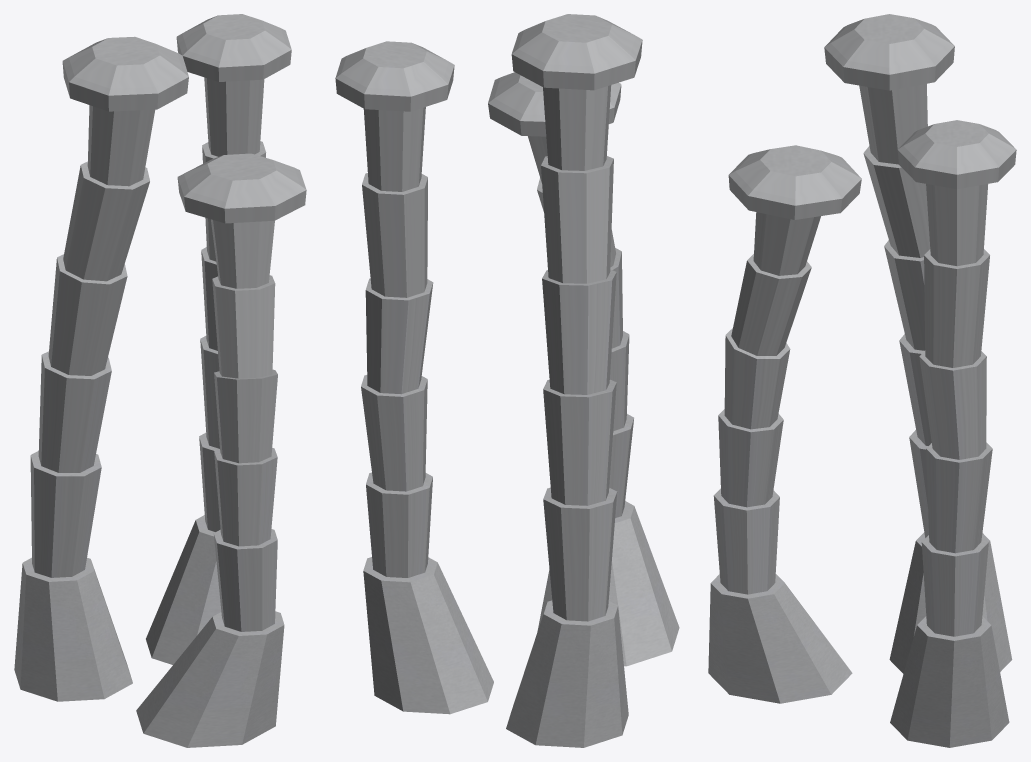
File: metal_pole.glb
3 renders of one model, left to right at view 1: azimuth 30°, elevation 25°; view 2: azimuth 150°, elevation 25°; view 3: azimuth 270°, elevation 25°, orthographic. The views are drawn at different scales.
Visible parts, largest first — view 1: Pole, Pole.003, Pole.002; view 2: Pole, Pole.002, Pole.003; view 3: Pole.002, Pole.003, Pole.
Boxes of the visible parts, x1,y1,x2,y2 form: Pole: (14,36,188,701); Pole.003: (136,153,306,747); Pole.002: (146,14,291,664); Pole: (506,14,642,747); Pole.002: (335,41,493,714); Pole.003: (488,72,679,666); Pole.002: (890,120,1016,747); Pole.003: (708,145,861,703); Pole: (824,14,1012,673).
Bounding box in the file's own units: 1.25 × 2.86 × 1.24.
1 material, 1 textured.
